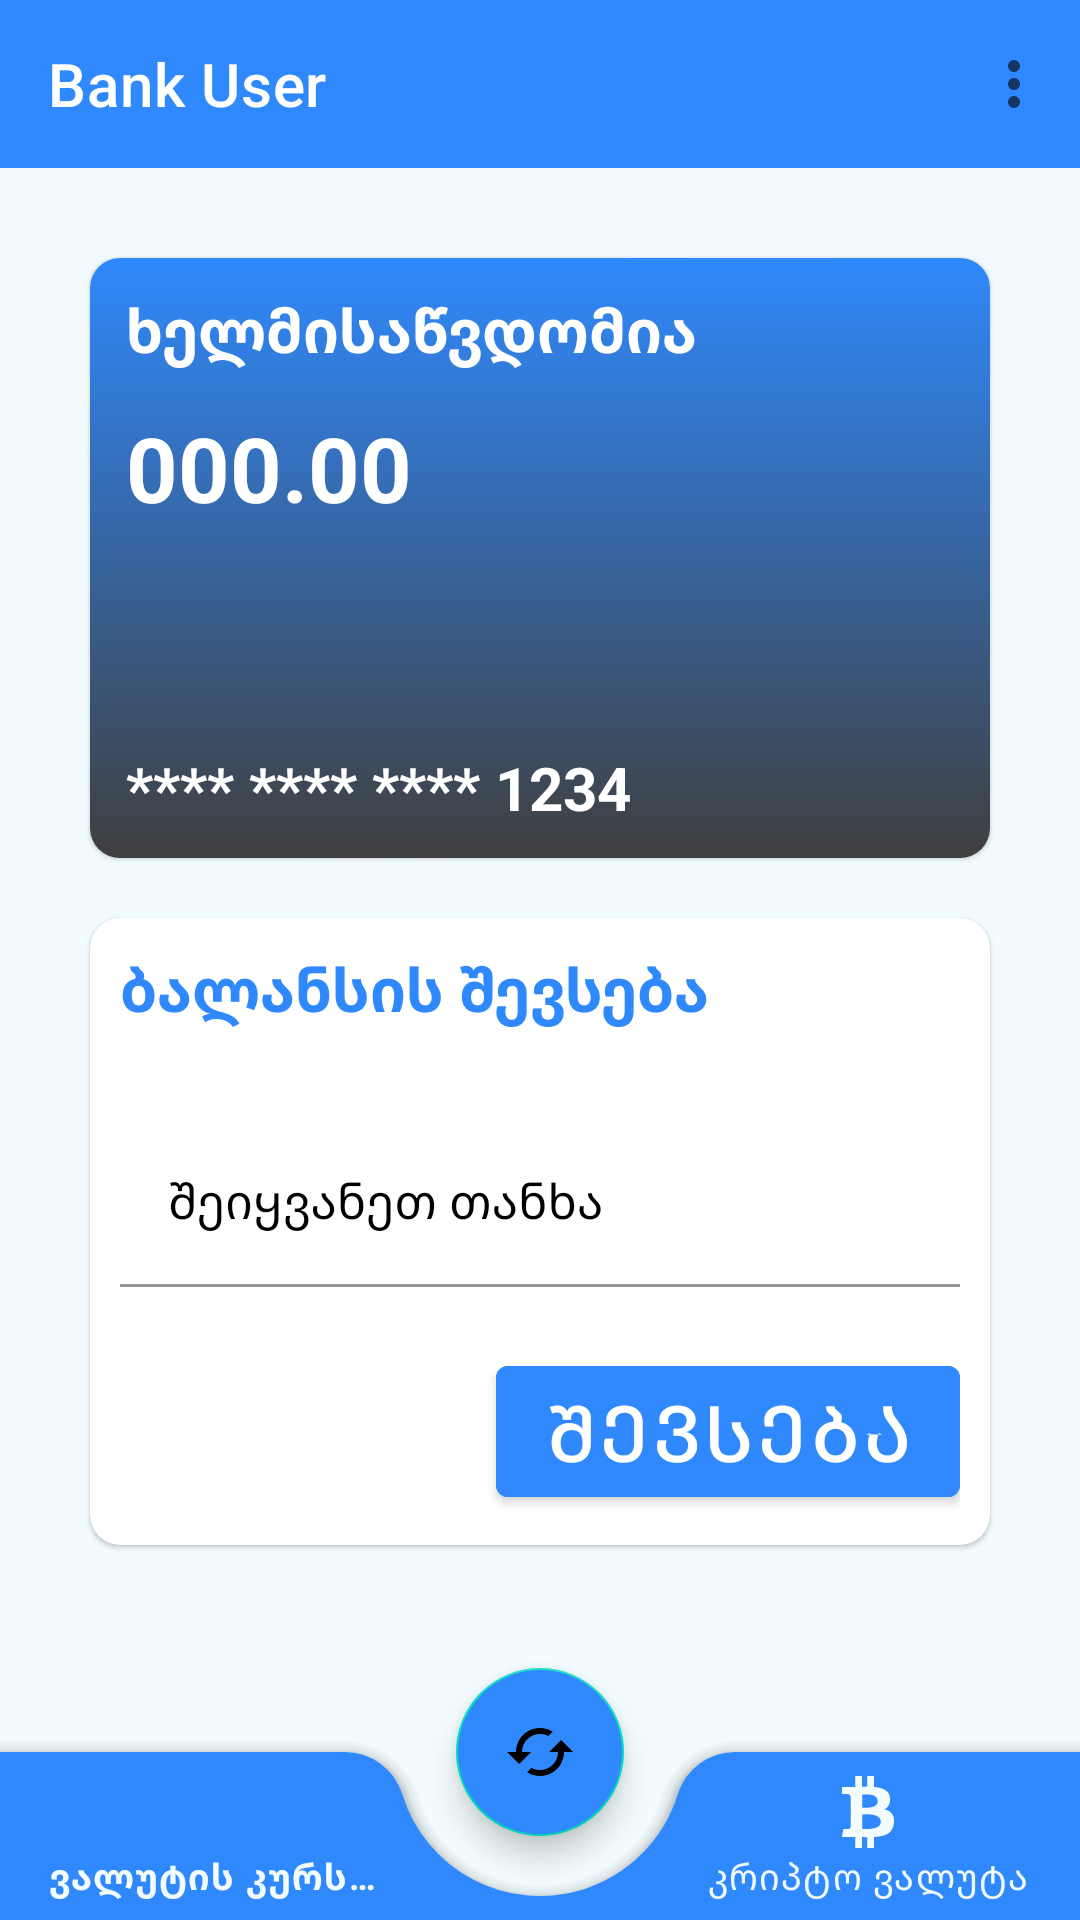

Icons on this 1080w x 1920h Android screen, each with its box as {"x1": x1, "y1": y1, "x2": x2, "y2": y2}:
converter: {"x1": 456, "y1": 1668, "x2": 624, "y2": 1836}
